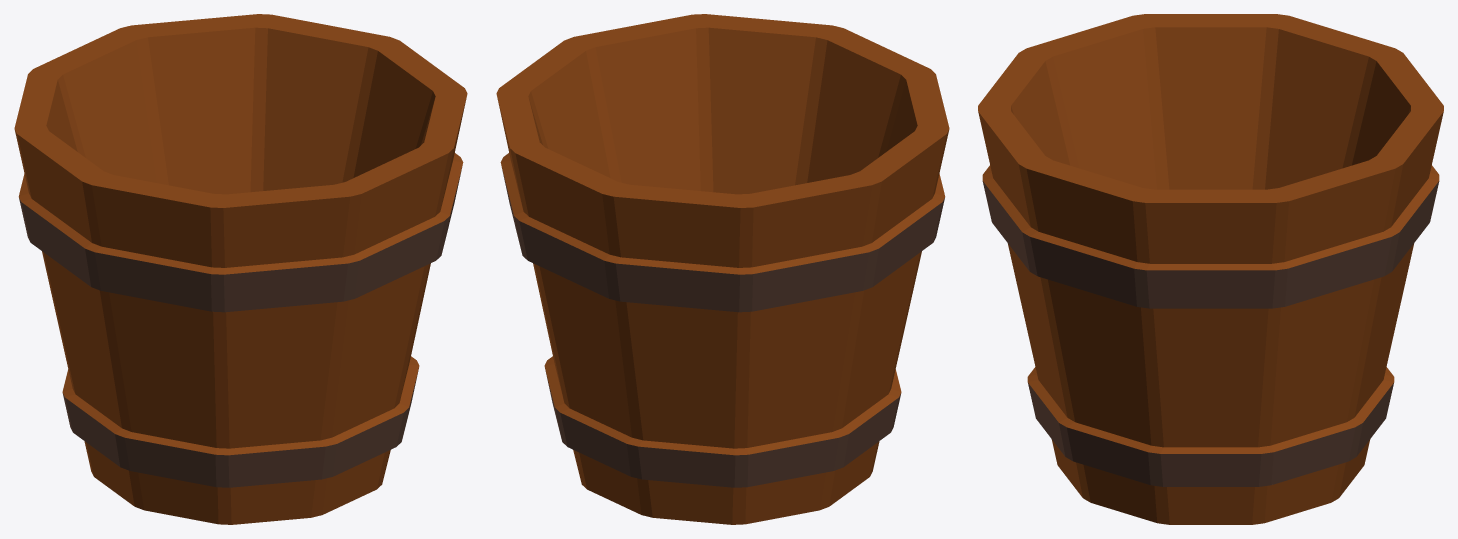
Rendered from bucket.fbx.
3 views of the same model, side by side, from view 1: azimuth 30°, elevation 25°; view 2: azimuth 150°, elevation 25°; view 3: azimuth 270°, elevation 25° (orthographic).
Parts seen in each view (by area): view 1: Cylinder; view 2: Cylinder; view 3: Cylinder.
Boxes of the visible parts, x1=… form: Cylinder: x1=14, y1=14, x2=467, y2=524; Cylinder: x1=496, y1=14, x2=949, y2=524; Cylinder: x1=978, y1=14, x2=1443, y2=524.
Bounding box in the file's own units: 43.09 × 37.65 × 44.89.
